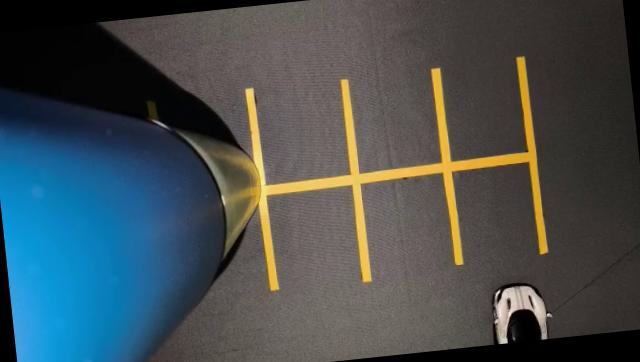toy_car: (459, 256, 572, 347)
